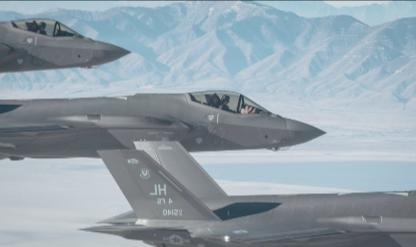F22: (75, 140, 415, 246), (1, 90, 329, 164), (1, 18, 133, 78)
